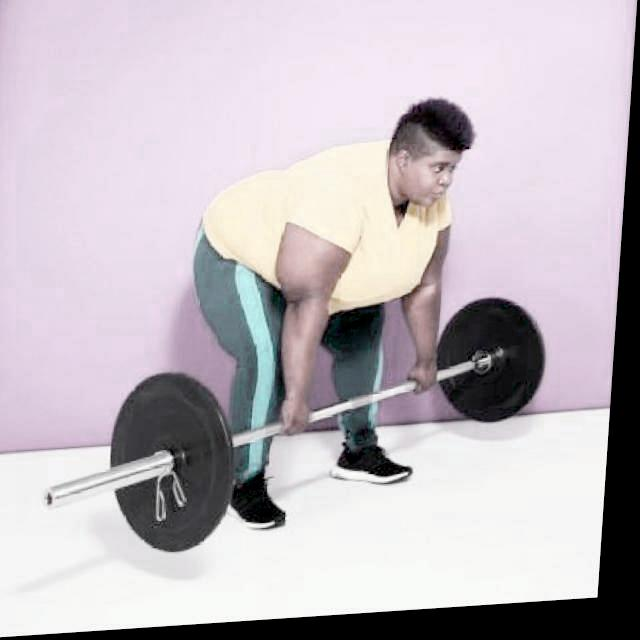barbell: (44, 365, 248, 567)
